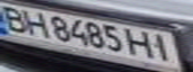4: (66, 18, 87, 46)
5: (103, 24, 127, 54)
8: (45, 15, 72, 43), (84, 20, 106, 51)
B: (0, 3, 30, 33)
H: (124, 27, 157, 58), (18, 8, 51, 38)
I: (148, 32, 181, 62)
